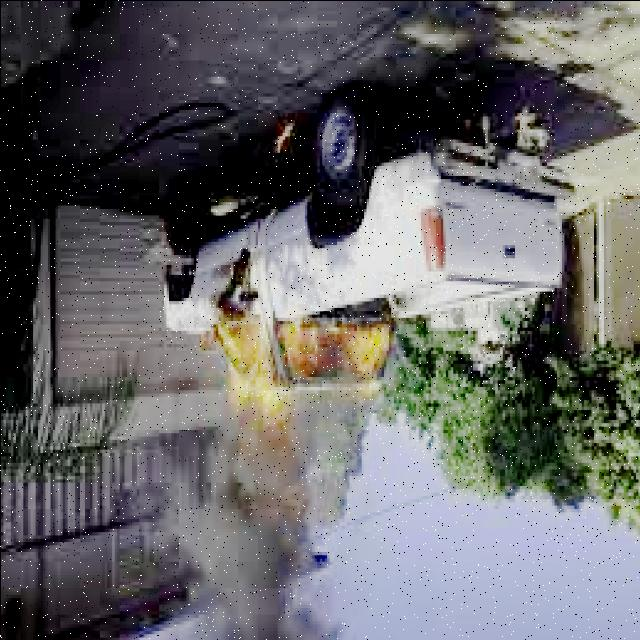api: (197, 292, 402, 440)
